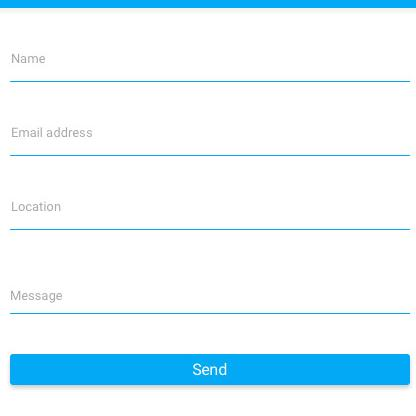button: (7, 351, 412, 389)
field_line: (4, 39, 410, 86), (6, 193, 414, 235), (3, 277, 412, 317), (5, 120, 411, 160)
